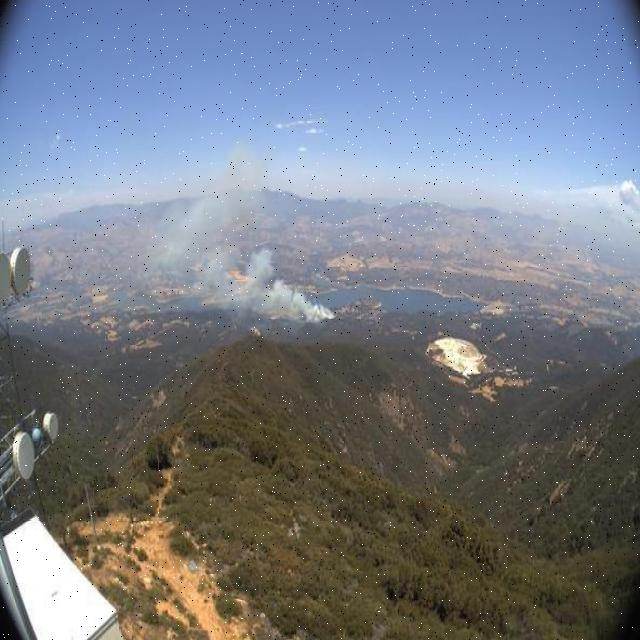smoke: (145, 142, 340, 326)
